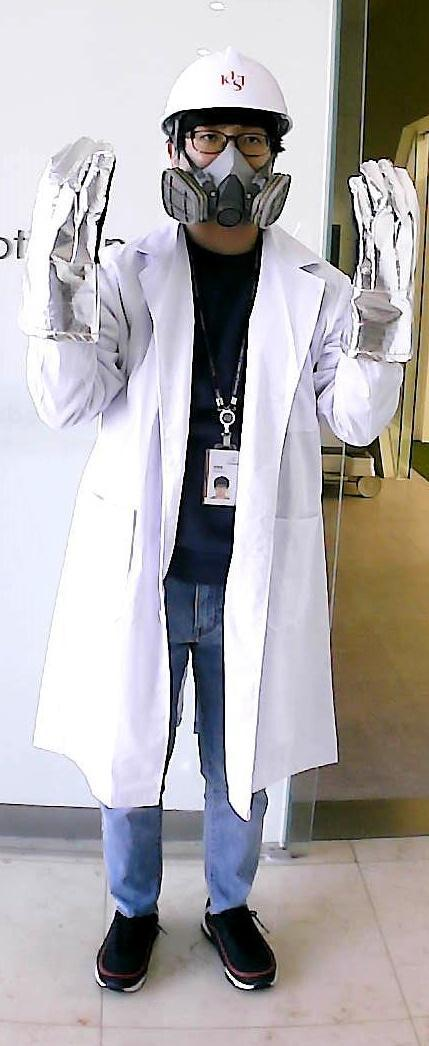lab_coat: (89, 259, 340, 801)
